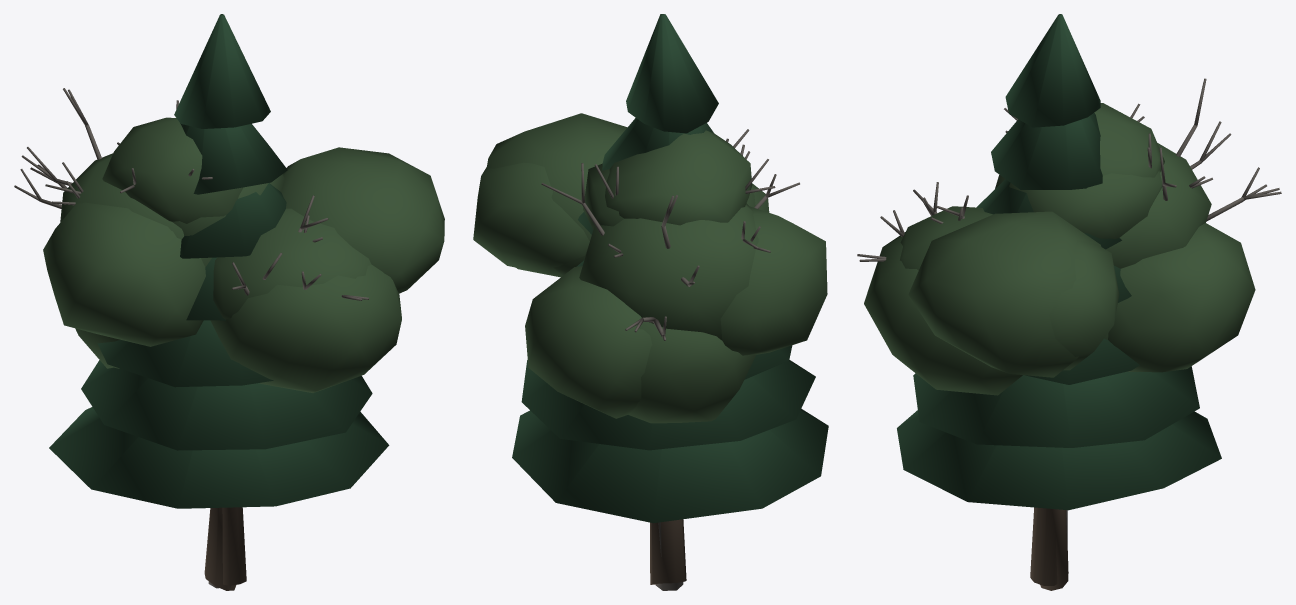
File: Trees.fbx
3 renders of one model, left to right at view 1: azimuth 30°, elevation 25°; view 2: azimuth 150°, elevation 25°; view 3: azimuth 270°, elevation 25°, orthographic.
Visible parts, largest first — view 1: Tree_Broadleaf, Tree_Pine, Tree_Dead; view 2: Tree_Broadleaf, Tree_Pine, Tree_Dead; view 3: Tree_Broadleaf, Tree_Pine, Tree_Dead.
Part boxes in pixels (x1,y1,x2,y2): Tree_Broadleaf: (43,117,444,590); Tree_Pine: (49,14,389,585); Tree_Dead: (14,88,368,588); Tree_Broadleaf: (473,113,827,584); Tree_Pine: (512,14,828,523); Tree_Dead: (541,129,799,590); Tree_Broadleaf: (864,103,1255,590); Tree_Pine: (897,14,1221,585); Tree_Dead: (857,78,1281,548).
Bounding box in the file's own units: 7.38 × 11.74 × 7.89.
